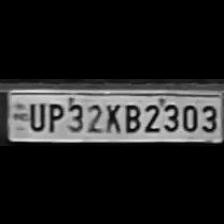0: (178, 99, 198, 130)
2: (84, 100, 104, 132), (142, 100, 160, 132)
3: (64, 99, 84, 133), (198, 100, 218, 132), (161, 100, 179, 132)
B: (120, 100, 140, 132)
P: (44, 98, 64, 132)
U: (24, 99, 43, 130)
X: (102, 99, 120, 133)
